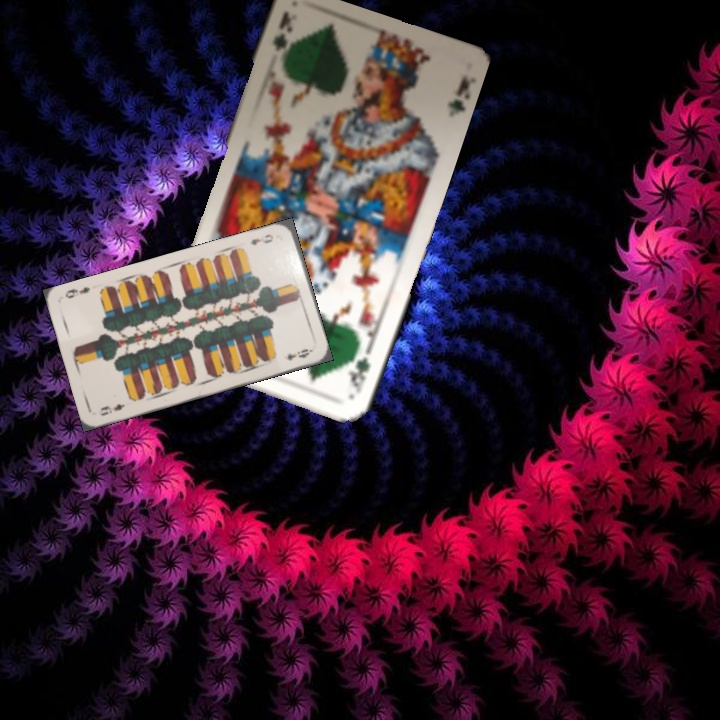E9: (97, 400, 127, 419), (246, 230, 276, 248)
GK: (347, 341, 376, 397), (268, 8, 295, 55)
